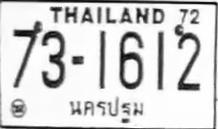1: (156, 30, 165, 90), (98, 30, 106, 89)
2: (176, 30, 201, 91)
3: (40, 29, 66, 88)
6: (118, 30, 144, 89)
7: (11, 28, 41, 88)
NPT: (66, 92, 146, 124)
